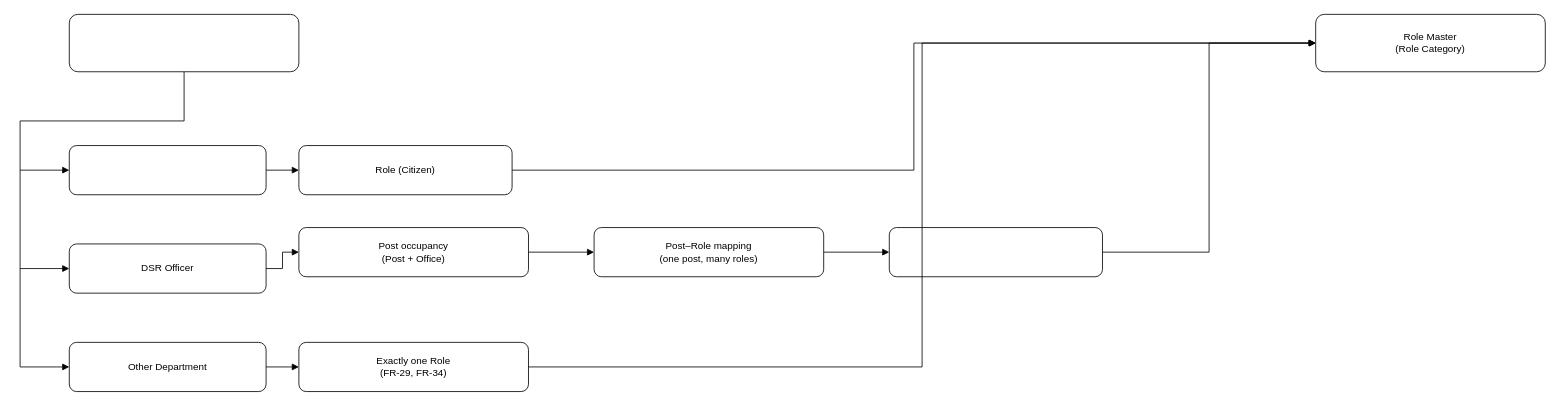
Some shapes in this 1560 by 406 pixel diagram are drawn without their labels. Each missing label, with the centre of its shape:
"Citizen" goes at [167,170].
"FR-52 selects one post at login" goes at [995,252].
"User Master (User Category)" goes at [183,43].
